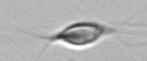plankton: (15, 16, 147, 55)
